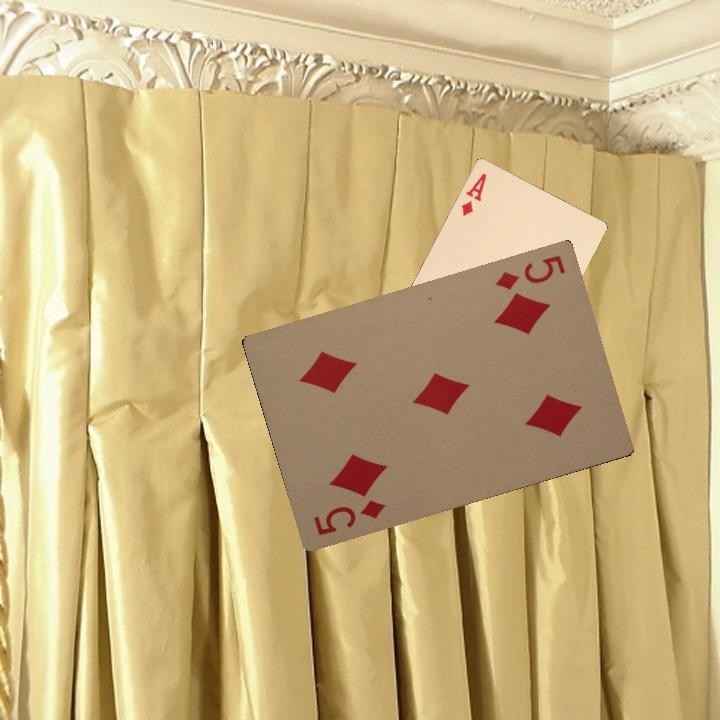5d: (309, 495, 388, 538), (491, 250, 568, 293)
Ad: (457, 169, 489, 218)
